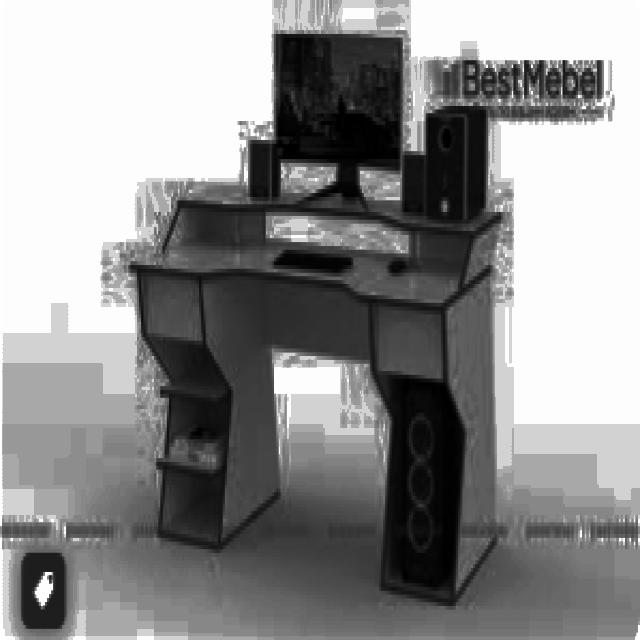table: (128, 182, 501, 602)
